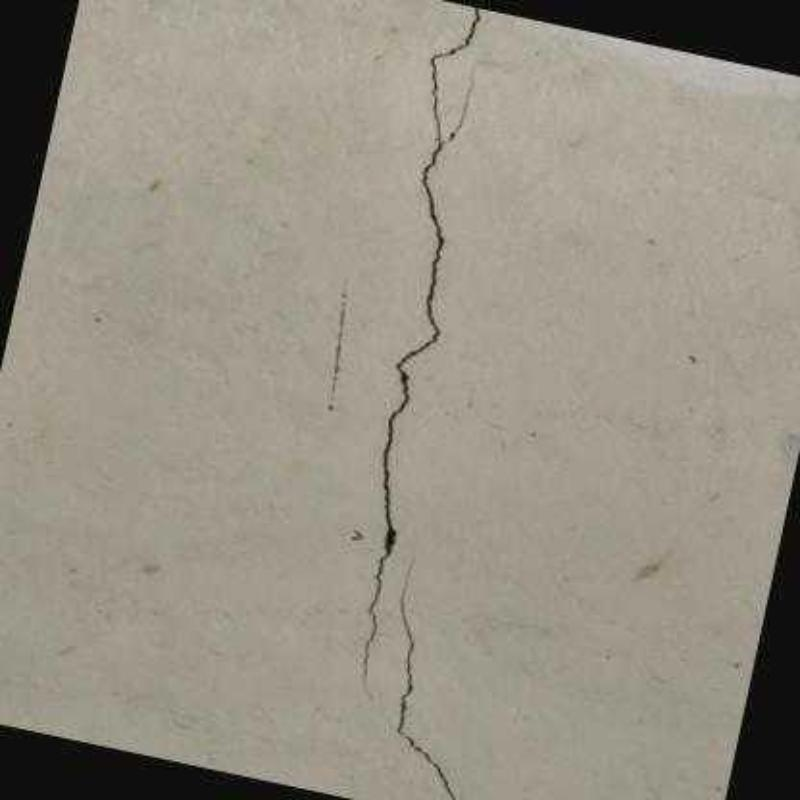pothole: (364, 6, 481, 686), (396, 561, 458, 798), (444, 60, 490, 144)
